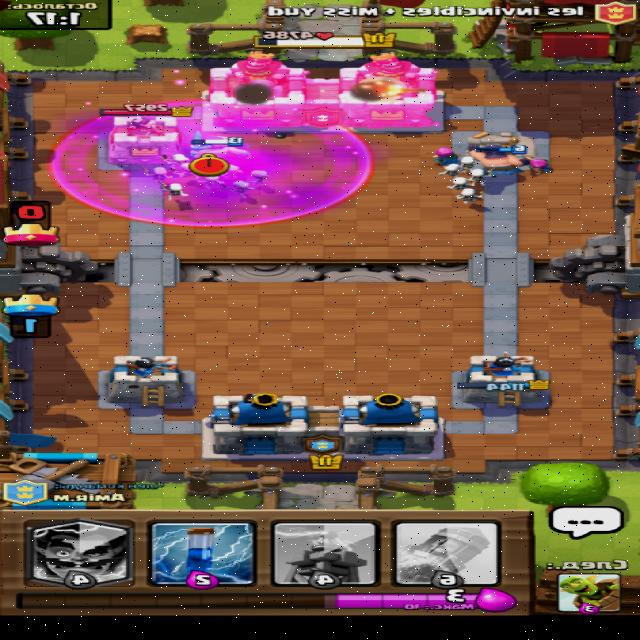Enemy-Rage: (49, 95, 378, 228)
Player-Archer: (426, 145, 464, 165), (523, 154, 556, 175)
Player-EliteBarbarian: (189, 130, 252, 161)
Player-Executioner: (468, 142, 530, 179)
Player-Skeleton: (160, 180, 191, 203), (221, 180, 255, 198), (456, 187, 488, 203), (142, 165, 174, 181), (164, 152, 190, 169), (439, 162, 466, 177), (471, 168, 496, 184), (252, 169, 273, 185), (176, 161, 197, 176), (448, 178, 473, 190), (459, 155, 478, 169), (202, 173, 221, 187), (228, 163, 245, 177)
